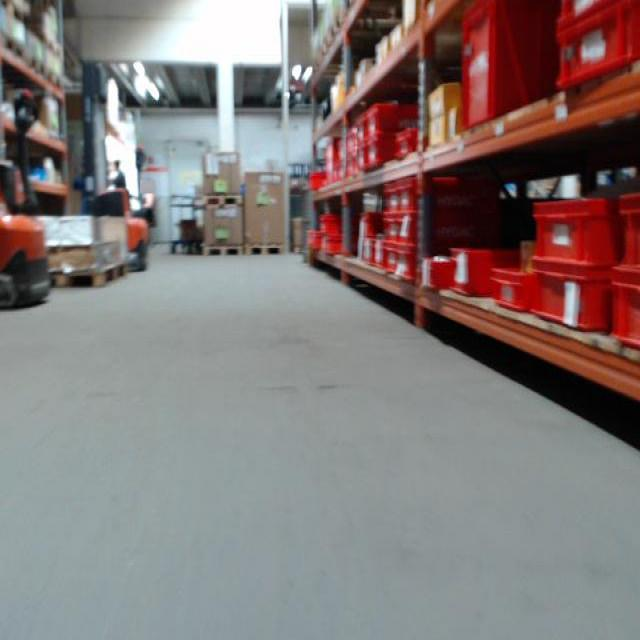pallet: (49, 261, 128, 289), (201, 193, 243, 209), (4, 33, 26, 62), (200, 245, 244, 257), (243, 245, 285, 257), (28, 57, 47, 79)
pallet_truck: (74, 54, 152, 272), (3, 84, 56, 321), (16, 82, 49, 215)
small_load_carrier: (452, 3, 547, 131), (524, 193, 619, 274), (558, 9, 637, 103), (531, 259, 607, 339), (450, 243, 510, 301), (492, 262, 539, 321), (610, 179, 640, 268), (607, 268, 638, 353), (365, 101, 420, 145), (399, 207, 456, 246), (554, 3, 640, 26), (365, 133, 406, 181), (397, 183, 456, 216), (419, 258, 463, 294), (390, 244, 426, 282), (351, 214, 372, 266), (396, 118, 419, 157), (321, 232, 355, 258), (377, 240, 400, 275), (379, 184, 404, 215), (379, 214, 408, 240), (320, 209, 350, 231), (354, 116, 371, 152), (362, 236, 380, 269), (350, 148, 370, 173), (323, 139, 341, 163), (341, 129, 359, 149), (304, 230, 321, 251), (345, 160, 356, 183), (334, 165, 344, 183)
stillage: (297, 180, 319, 266)
